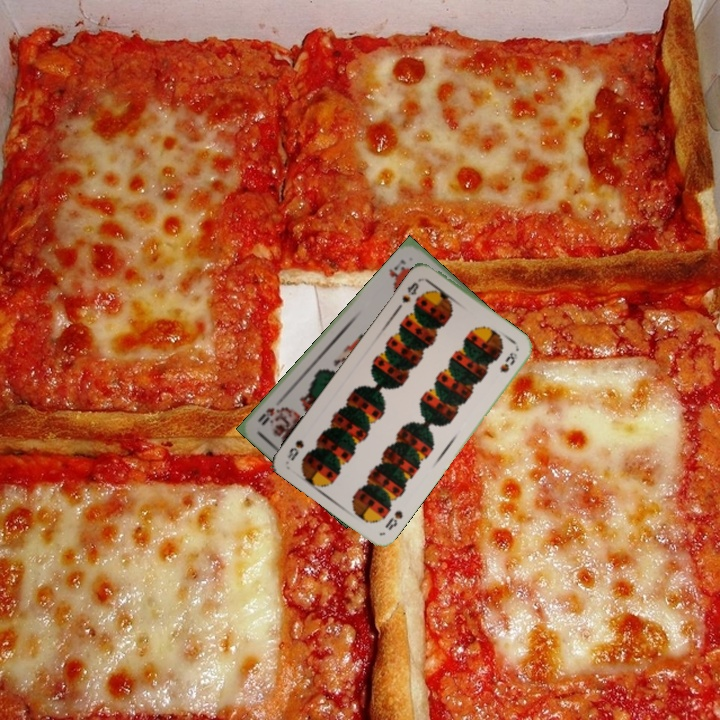HO: (385, 255, 410, 287)
S8: (381, 506, 405, 533), (398, 278, 421, 305)
